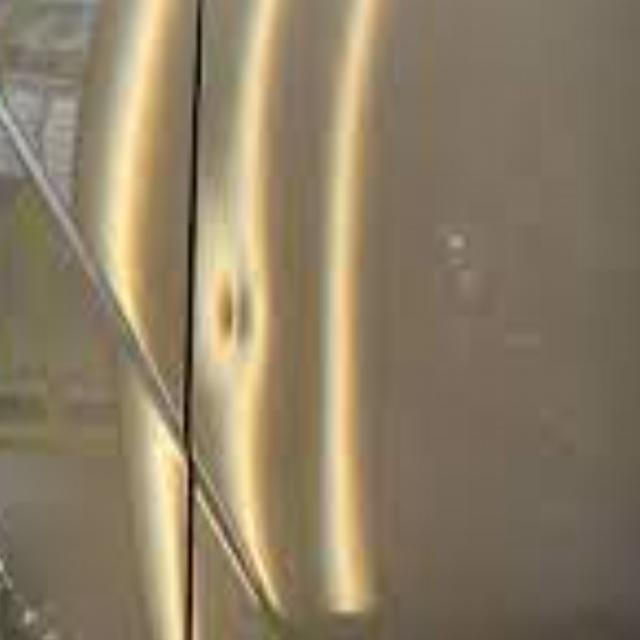dents: (205, 270, 262, 370)
